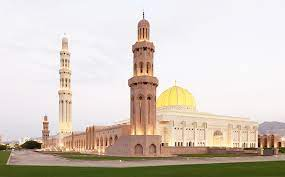Mosque: (39, 15, 262, 155)
